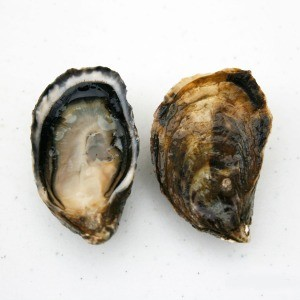oyster_brain food: (145, 69, 270, 246), (31, 60, 131, 246)
